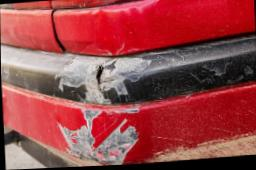Bumper: (28, 36, 256, 165)
